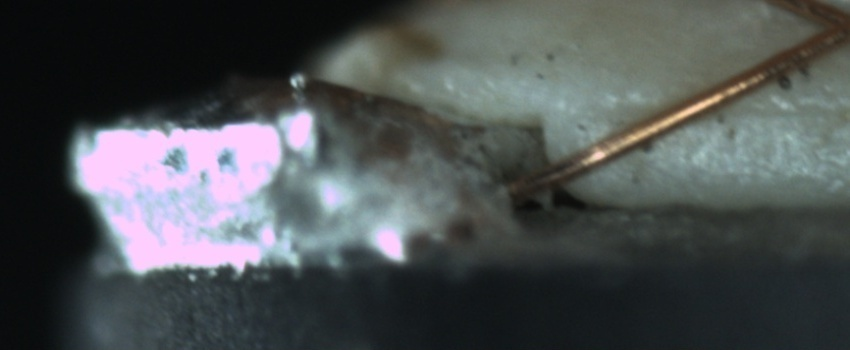CL: (796, 2, 850, 61)
DL: (622, 83, 849, 138)
